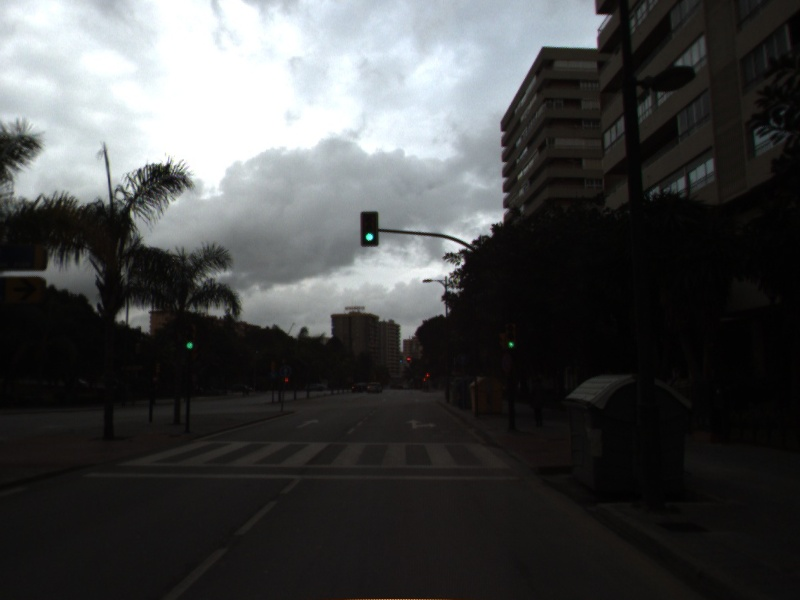STRAIGHT: (294, 416, 321, 430)
STRAIGHT_RIGHT: (403, 416, 439, 431)
